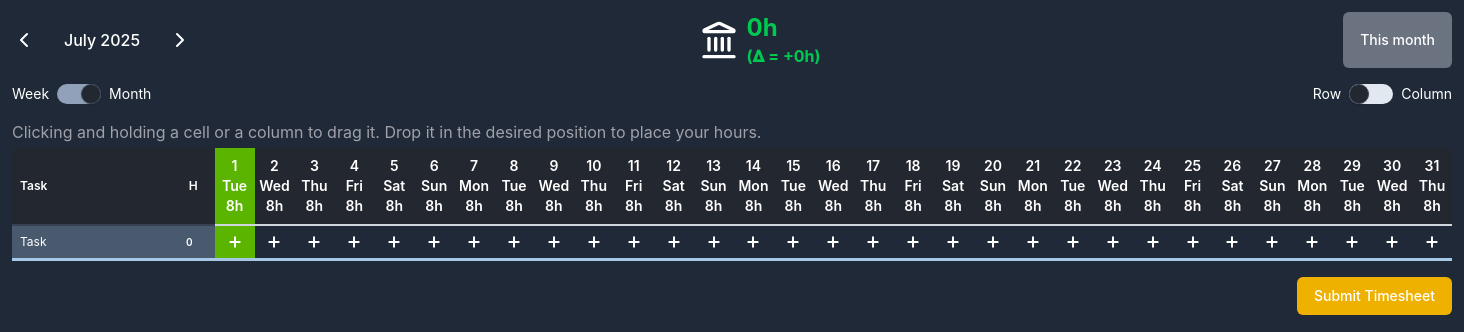
Test: Krm3Calendar › current month button
The width and height of the screenshot is (1464, 332).
Click the button with id "nav-next-btn": (180, 40) x1=168 y1=28 x2=192 y2=52
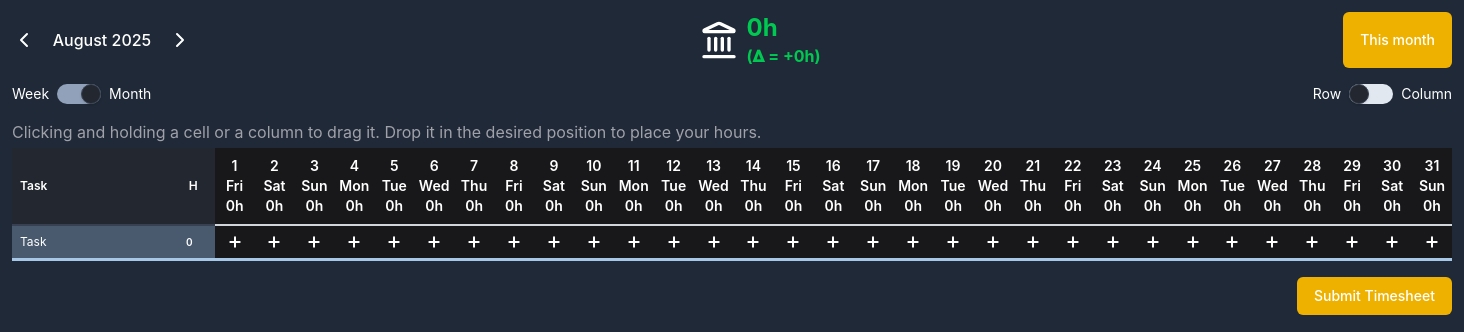
Click the button with id "nav-next-btn": (180, 40) x1=168 y1=28 x2=192 y2=52
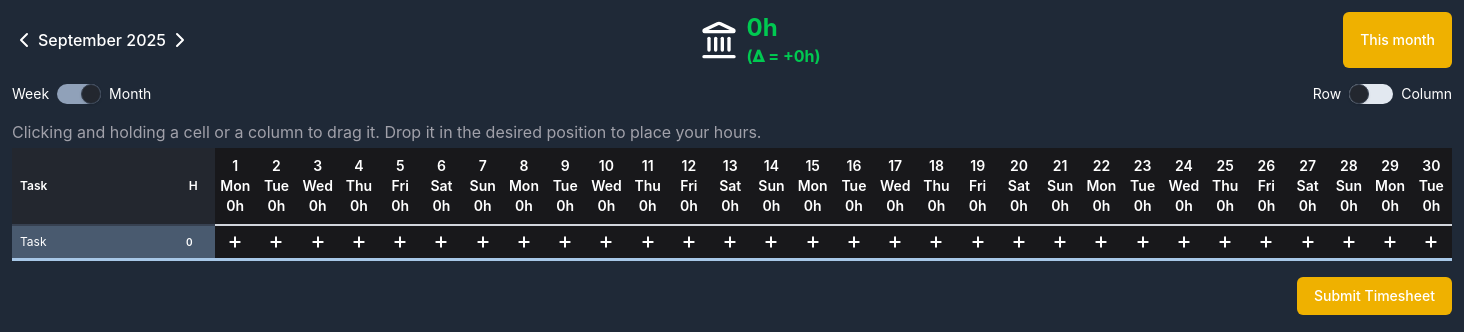
Expected: the text "September 2025" is shown, x1=38 y1=28 x2=166 y2=52
Click the button with id "krm3-calendar-current-week-button": (1398, 40) x1=1343 y1=12 x2=1452 y2=68
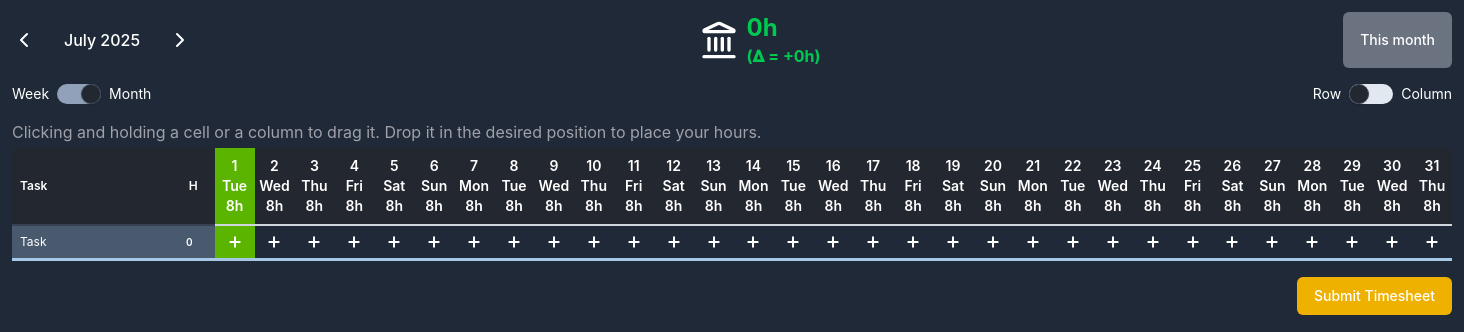
Expected: the text "July 2025" is shown, x1=64 y1=28 x2=140 y2=52
